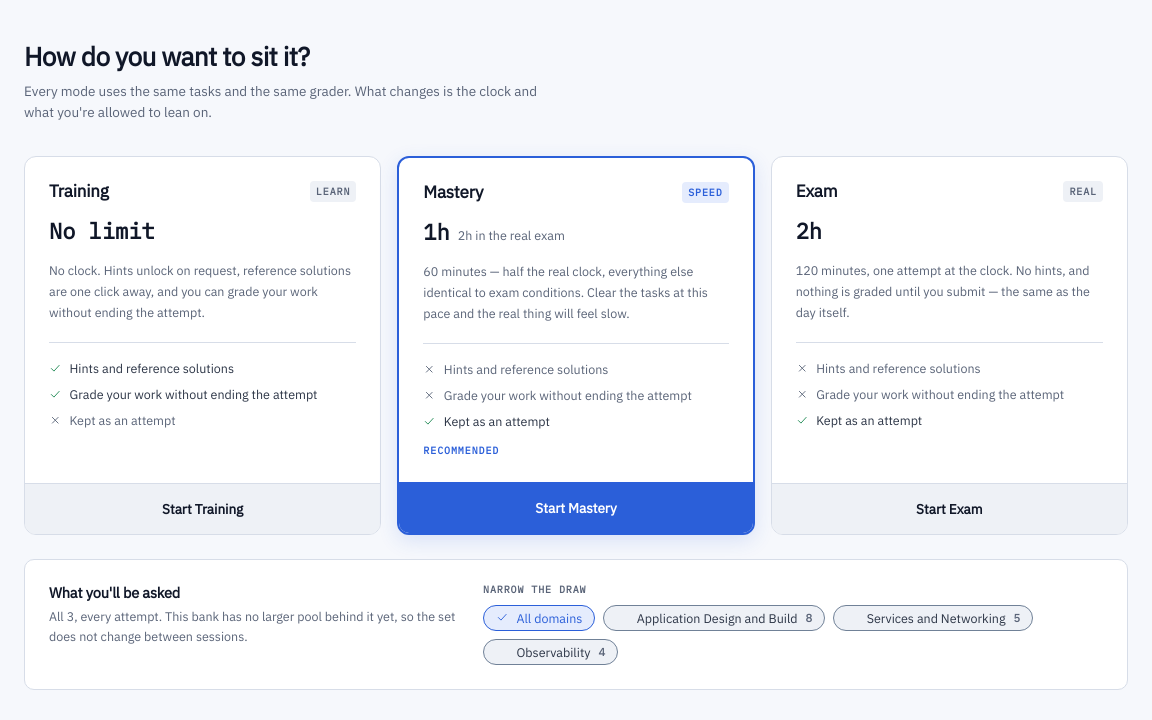
Scenario: starting › a 409 refetches the authoritative session, and says why the click did nothing
Expected: the heading "Exam" is shown, [796,181,838,202]
Click the button "Start Exam".
click(949, 508)  # box [772,483,1127,534]
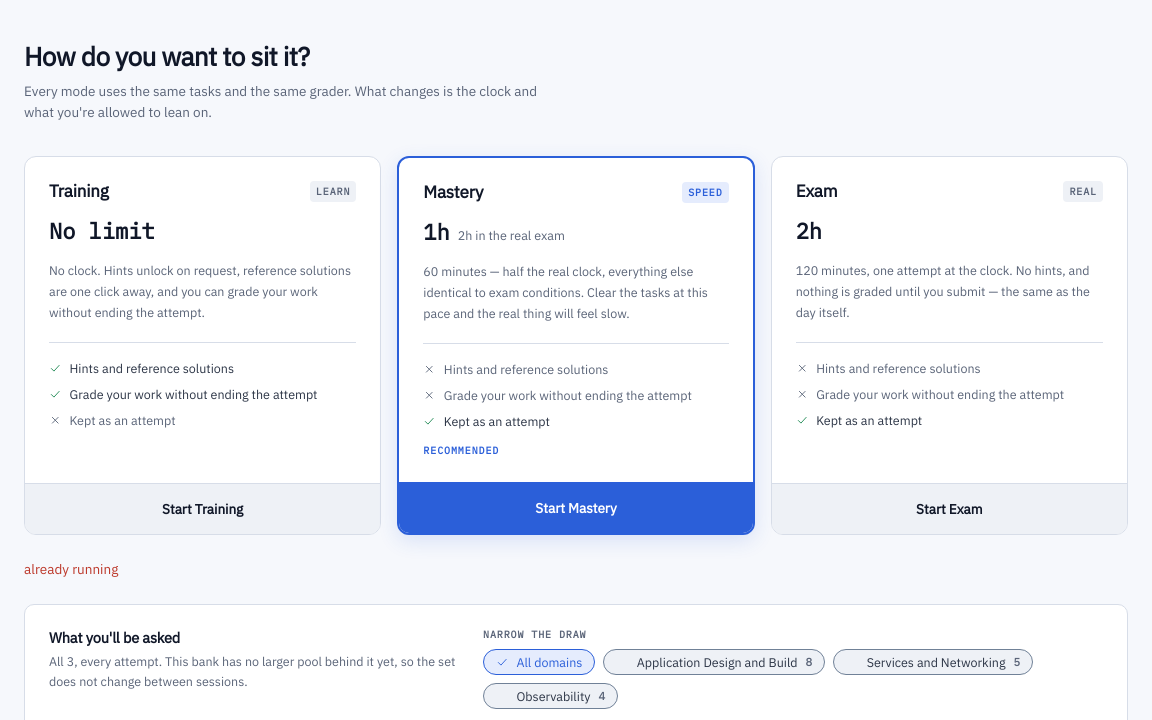
Now the text "already running" is shown, box [24,560,118,578]
